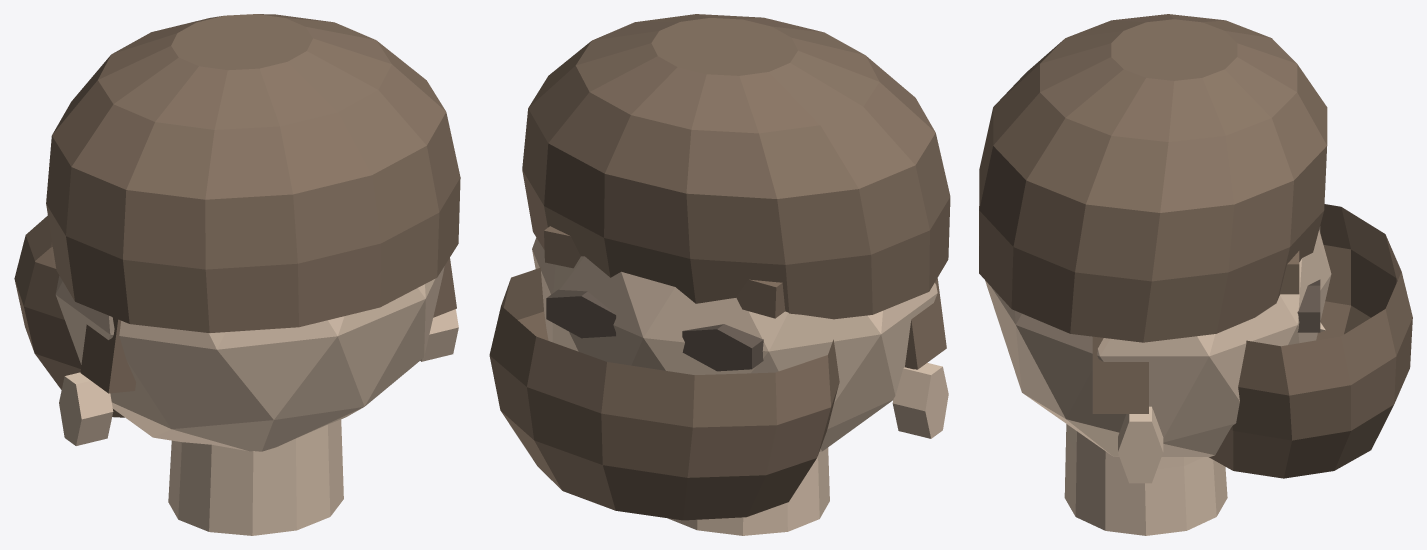
The model's file is 19-NPCs_cabeza_cuadrada.glb.
3 views of the same model, side by side, from view 1: azimuth 30°, elevation 25°; view 2: azimuth 150°, elevation 25°; view 3: azimuth 270°, elevation 25° (orthographic). The views are drawn at different scales.
Parts seen in each view (by area): view 1: SM_Cab_Cabello, SM_Cab_Cabeza, SM_Cab_Cuello, SM_Cab_Barba; view 2: SM_Cab_Cabello, SM_Cab_Barba, SM_Cab_Cabeza, SM_Cab_Ojos, SM_Cab_Cuello, SM_Cab_Cejas; view 3: SM_Cab_Cabello, SM_Cab_Barba, SM_Cab_Cabeza, SM_Cab_Cuello, SM_Cab_Ojos, SM_Cab_Cejas.
Boxes of the visible parts, x1=… form: SM_Cab_Cabello: x1=46, y1=14, x2=460, y2=333; SM_Cab_Cabeza: x1=55, y1=266, x2=458, y2=451; SM_Cab_Cuello: x1=168, y1=419, x2=343, y2=535; SM_Cab_Barba: x1=14, y1=215, x2=456, y2=417; SM_Cab_Cabello: x1=522, y1=14, x2=950, y2=319; SM_Cab_Barba: x1=489, y1=267, x2=946, y2=520; SM_Cab_Cabeza: x1=532, y1=237, x2=948, y2=451; SM_Cab_Ojos: x1=546, y1=289, x2=763, y2=371; SM_Cab_Cuello: x1=668, y1=447, x2=829, y2=535; SM_Cab_Cejas: x1=544, y1=226, x2=785, y2=318; SM_Cab_Cabello: x1=979, y1=14, x2=1327, y2=342; SM_Cab_Barba: x1=1092, y1=204, x2=1412, y2=478; SM_Cab_Cabeza: x1=985, y1=230, x2=1331, y2=483; SM_Cab_Cuello: x1=1064, y1=424, x2=1227, y2=535; SM_Cab_Ojos: x1=1297, y1=226, x2=1320, y2=332; SM_Cab_Cejas: x1=1280, y1=251, x2=1299, y2=294.
Size of the model in its own units: 0.31 by 0.352 by 0.309.
